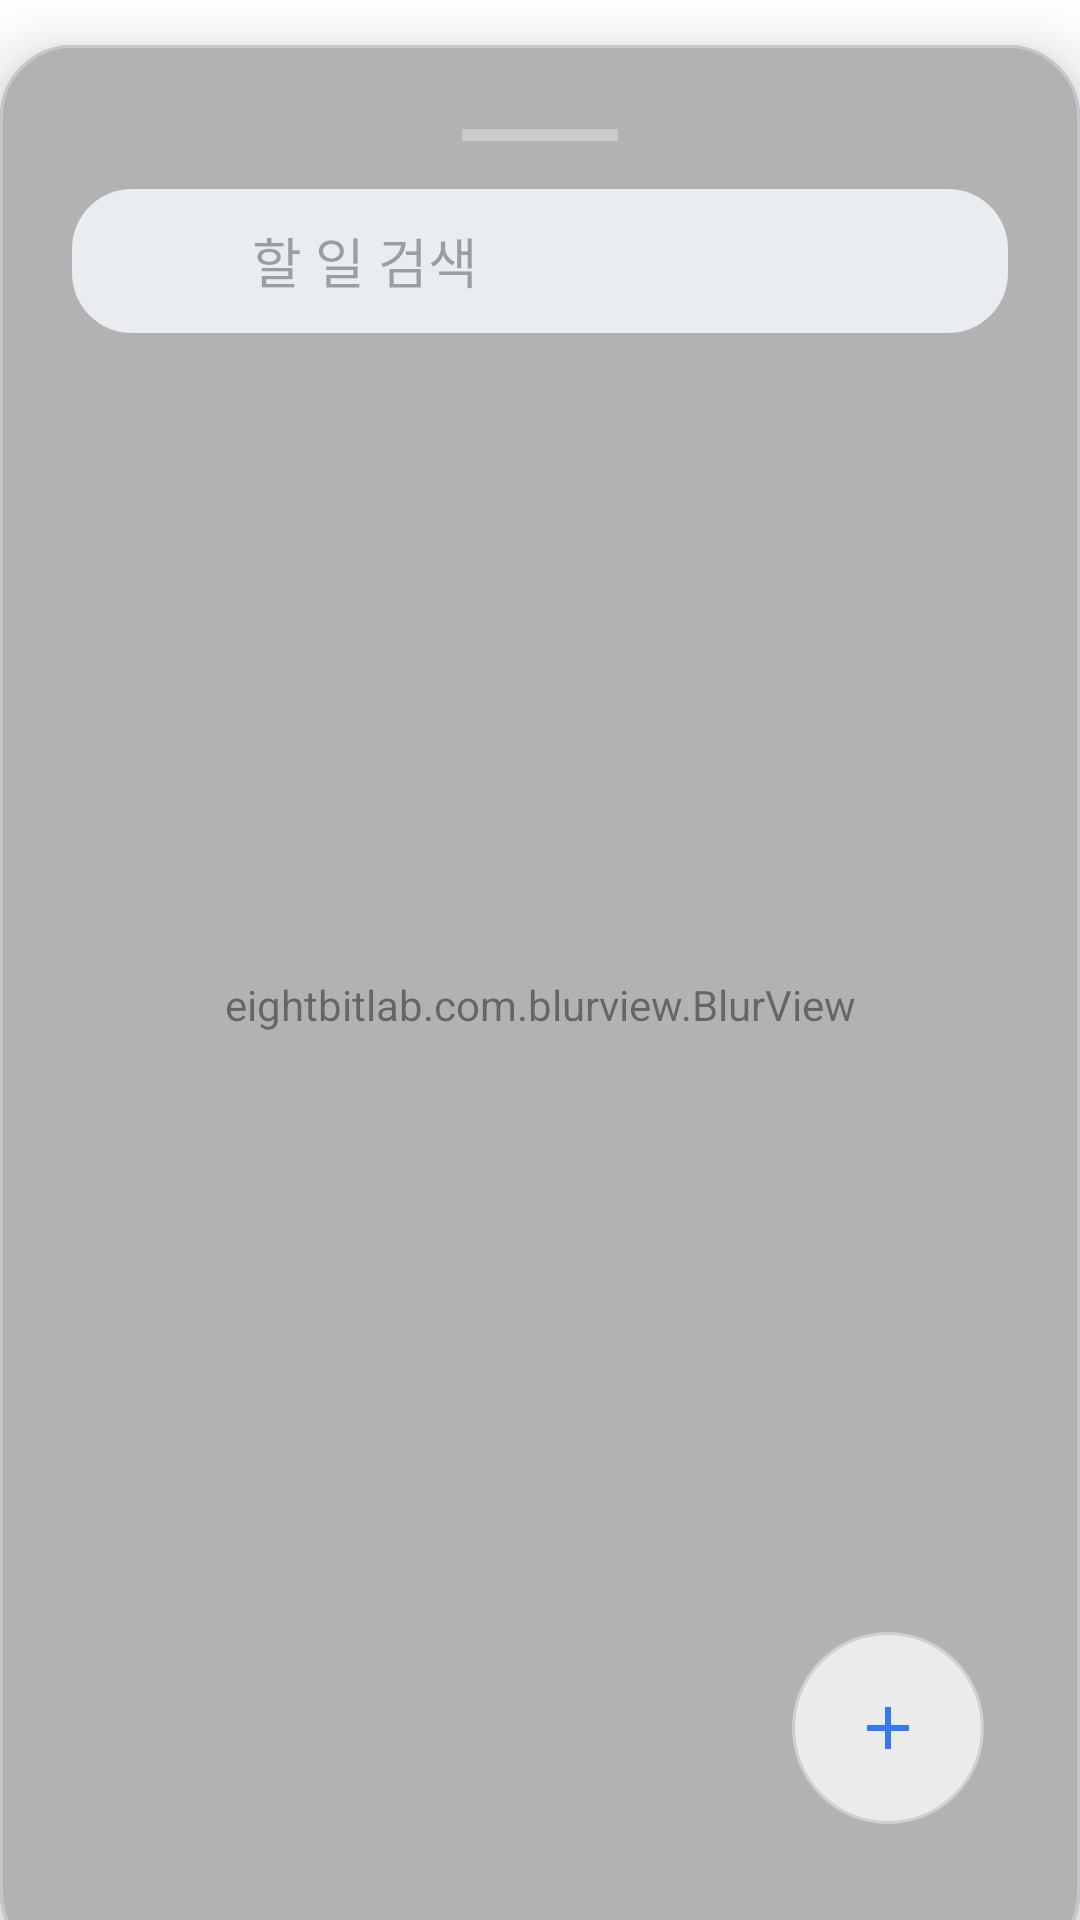

Point at icon controls on the screen. Image size 1080×1920, points as [x,y].
add: [888,1728]
